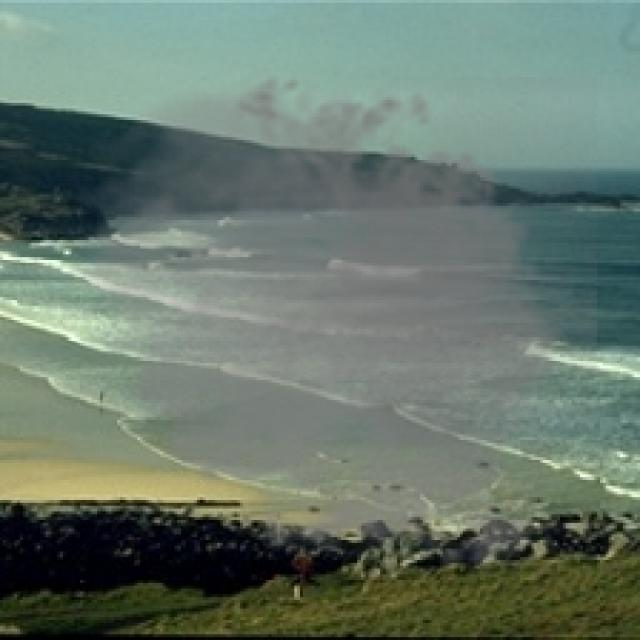smoke: (46, 66, 597, 583)
